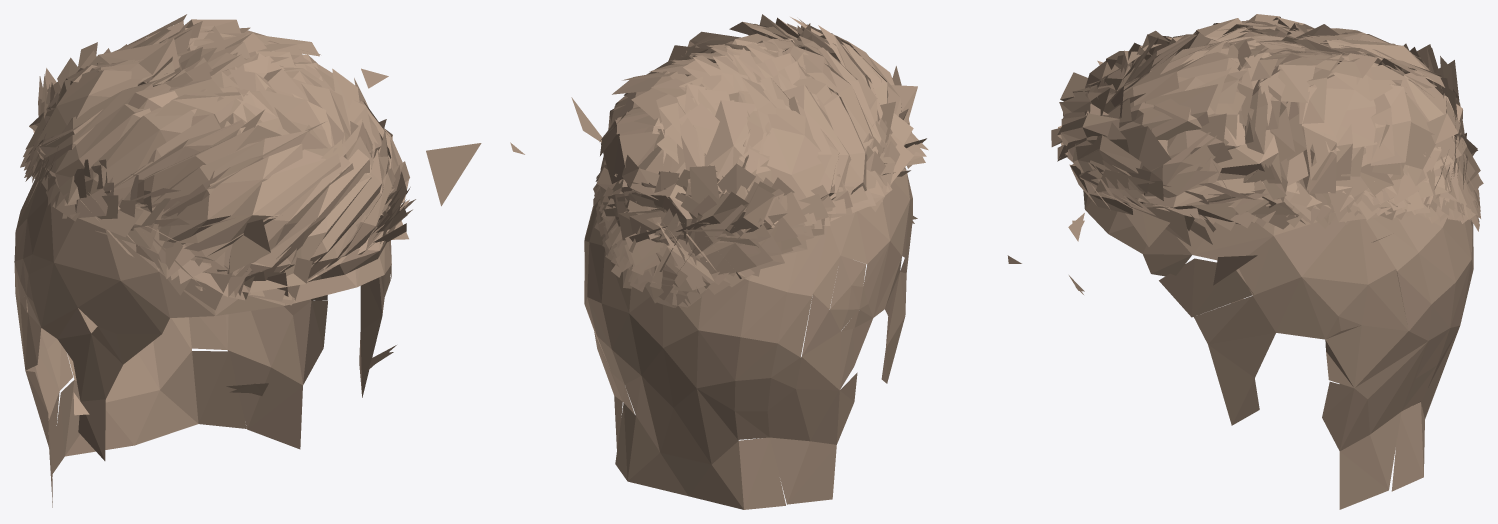
The model's file is male_hair_06_lod1.glb.
3 renders of one model, left to right at view 1: azimuth 30°, elevation 25°; view 2: azimuth 150°, elevation 25°; view 3: azimuth 270°, elevation 25°, orthographic. The views are drawn at different scales.
Parts seen in each view (by area): view 1: hair_06; view 2: hair_06; view 3: hair_06.
Part boxes in pixels (<box>): hair_06: <box>14,14,481,507</box>; hair_06: <box>510,14,1021,509</box>; hair_06: <box>1051,14,1483,509</box>.
Size of the model in its own units: 0.2108 by 0.1972 by 0.1813.
